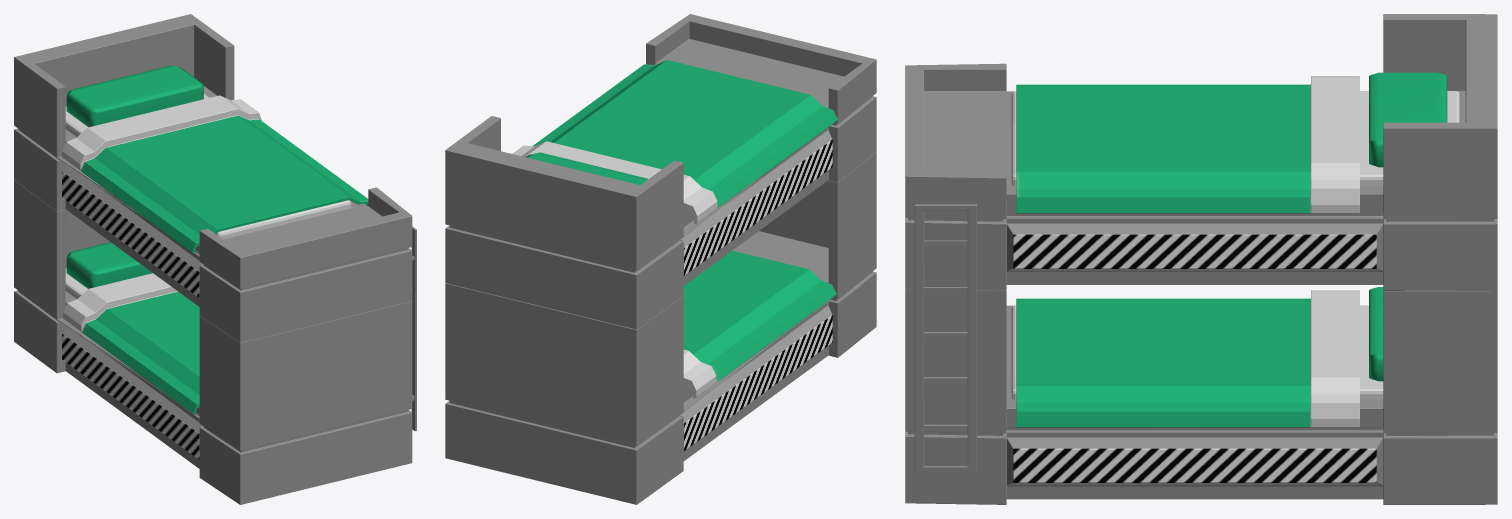
Rendered from SM_Bed_02.fbx.
The picture shows the model from 3 angles, left to right: view 1: azimuth 30°, elevation 25°; view 2: azimuth 150°, elevation 25°; view 3: azimuth 270°, elevation 25°; orthographic projection. The views are drawn at different scales.
Parts seen in each view (by area): view 1: SM_Bed_02; view 2: SM_Bed_02; view 3: SM_Bed_02.
Part boxes in pixels (x1,y1,x2,y2): SM_Bed_02: (14, 14, 416, 504); SM_Bed_02: (445, 14, 876, 504); SM_Bed_02: (905, 14, 1497, 504).
Size of the model in its own units: 157 by 327 by 230.
1 material, 1 textured.
